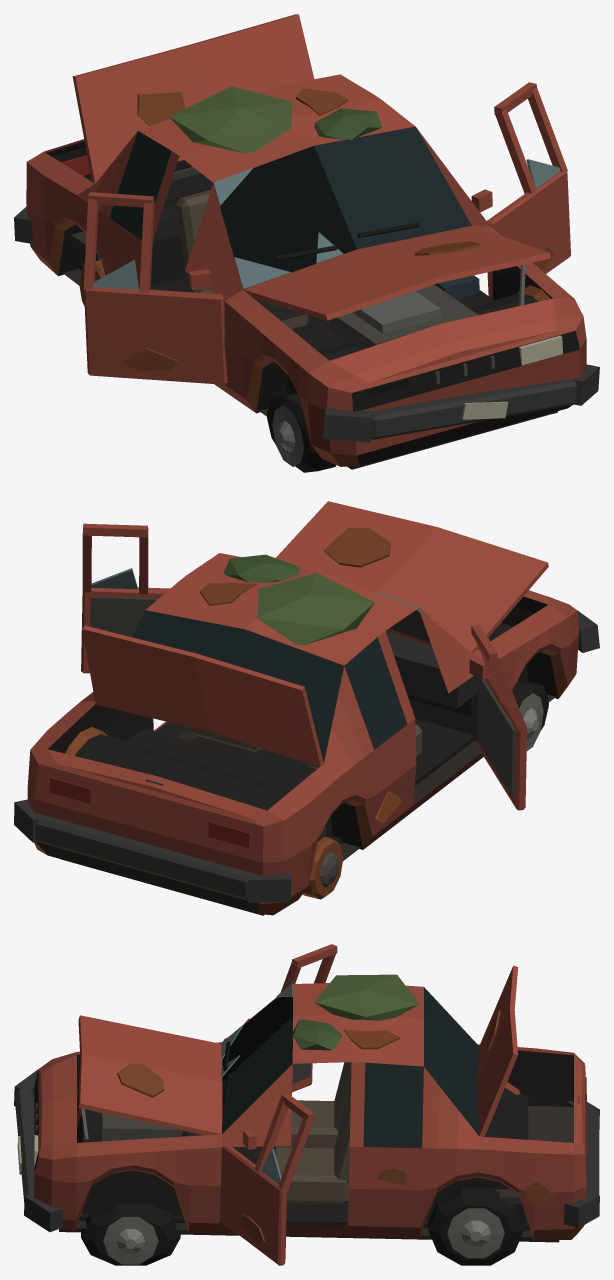
File: carro_abandonado_aberto.glb
The picture shows the model from 3 angles, top to bottom: view 1: azimuth 30°, elevation 25°; view 2: azimuth 150°, elevation 25°; view 3: azimuth 270°, elevation 25°; orthographic projection. The views are drawn at different scales.
Parts seen in each view (by area): view 1: carro_abandonado_aberto.001; view 2: carro_abandonado_aberto.001; view 3: carro_abandonado_aberto.001.
Part boxes in pixels (x1,y1,x2,y2): carro_abandonado_aberto.001: [14, 14, 599, 472]; carro_abandonado_aberto.001: [14, 501, 599, 915]; carro_abandonado_aberto.001: [14, 944, 599, 1265].
Size of the model in its own units: 2.73 by 1.34 by 3.4.
